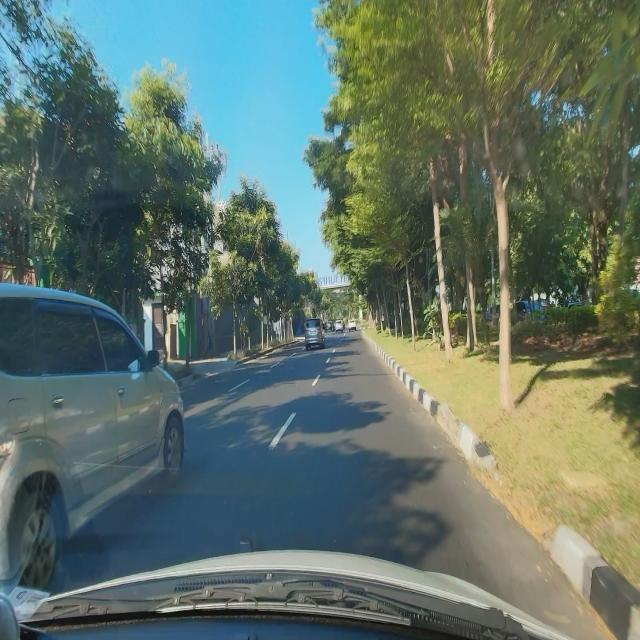car: (304, 316, 326, 352)
